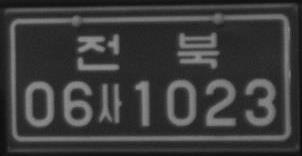0: (165, 77, 197, 127), (24, 79, 55, 129)
1: (130, 79, 156, 127)
2: (204, 77, 237, 127)
3: (243, 76, 277, 127)
6: (61, 79, 93, 128)
사: (97, 83, 123, 125)
전북_D: (76, 31, 219, 71)
